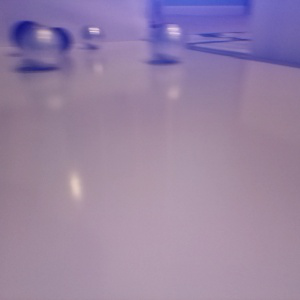alive_ball: (21, 27, 64, 69), (150, 23, 188, 61), (80, 25, 104, 48)
dead_ball: (12, 21, 42, 51), (48, 26, 72, 53)
